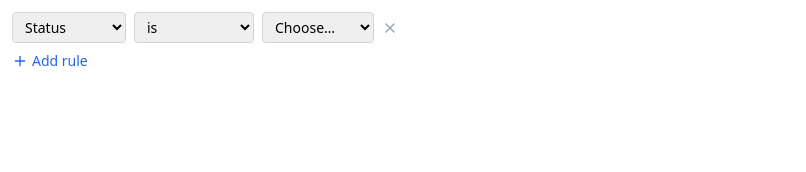
FilterBuilder › select fields offer their options; "is any of" uses checkboxes
Select "is any of" in the dropdown named "Rule 1 operator" at (194,28), box [134,12,254,43]
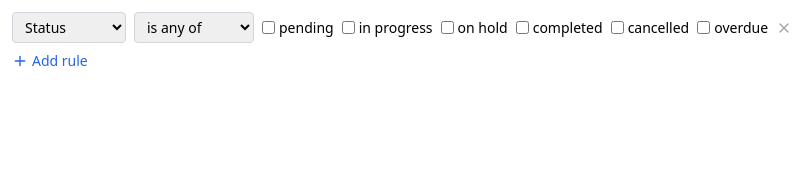
Click the checkbox labelled "pending" at (268,28), box [262,21,275,34]
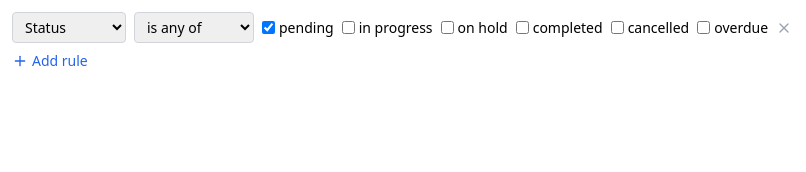
Click the checkbox labelled "completed" at (522,28), box [516,21,529,34]
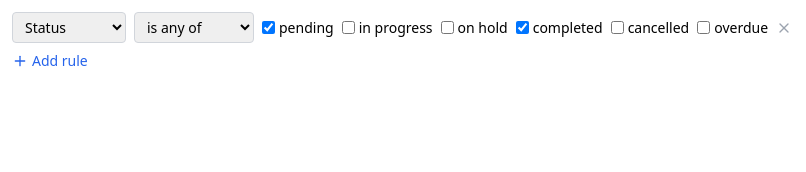
Check: the checkbox labelled "pending" is checked, box [262,21,275,34]
